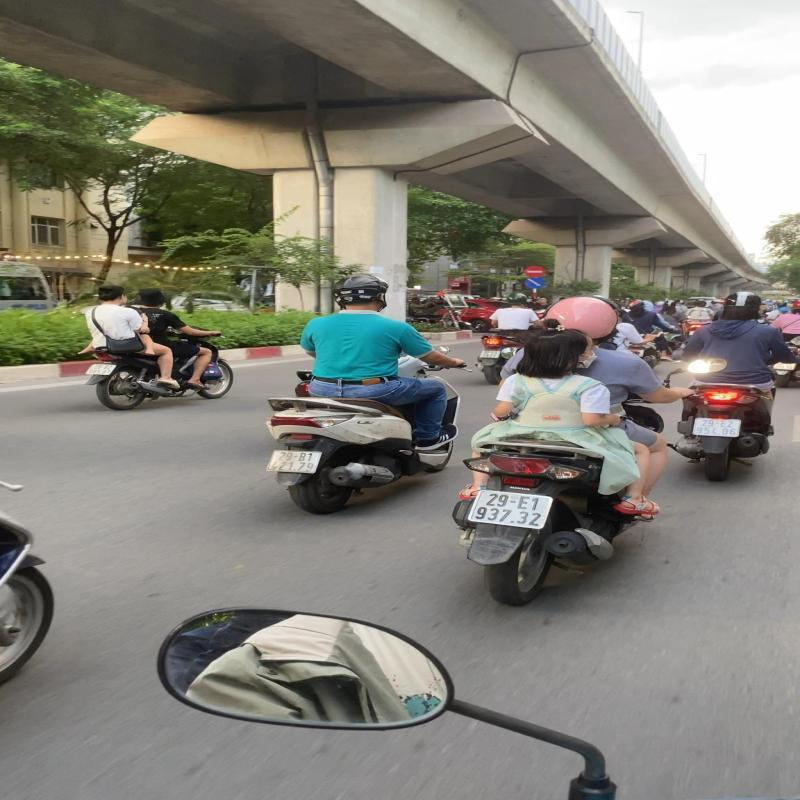licenseplate: (86, 364, 116, 376)
motorcyclist: (76, 286, 239, 412)
nohelmet: (97, 286, 128, 304), (138, 288, 169, 306)
